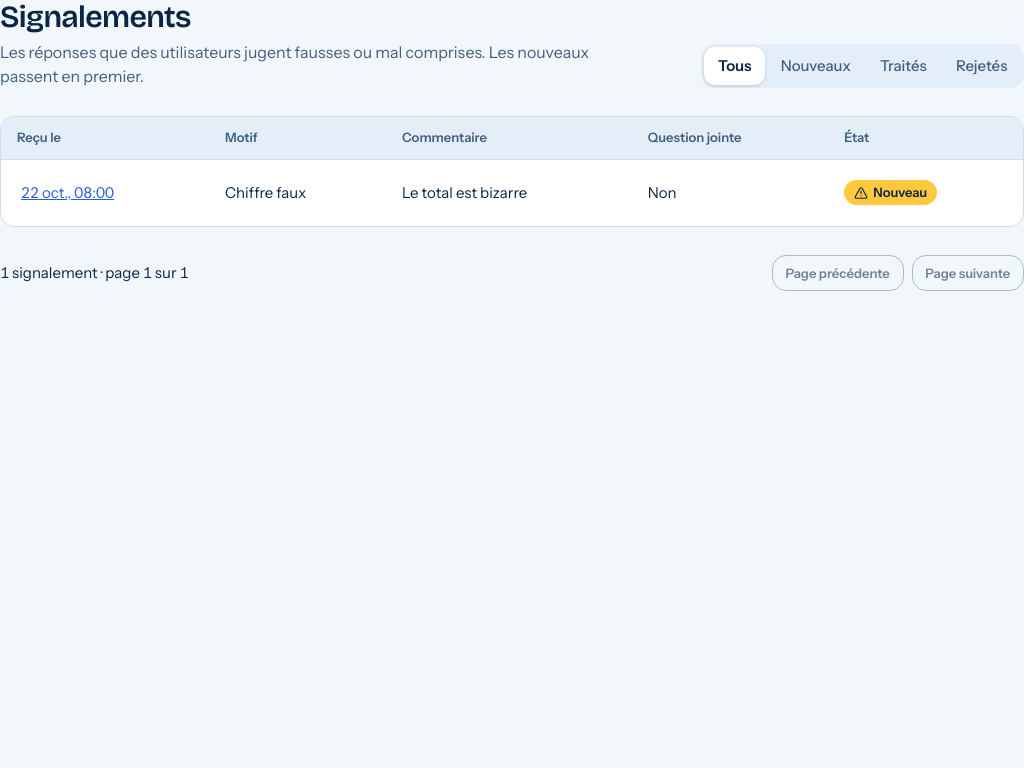
Signalements › une erreur de chargement du détail laisse les actions disponibles
This screenshot has width=1024, height=768.
Click the button with aria-label "Ouvrir le signalement" at coordinates (68, 193), box [17,171,118,215]
(page scrolled)
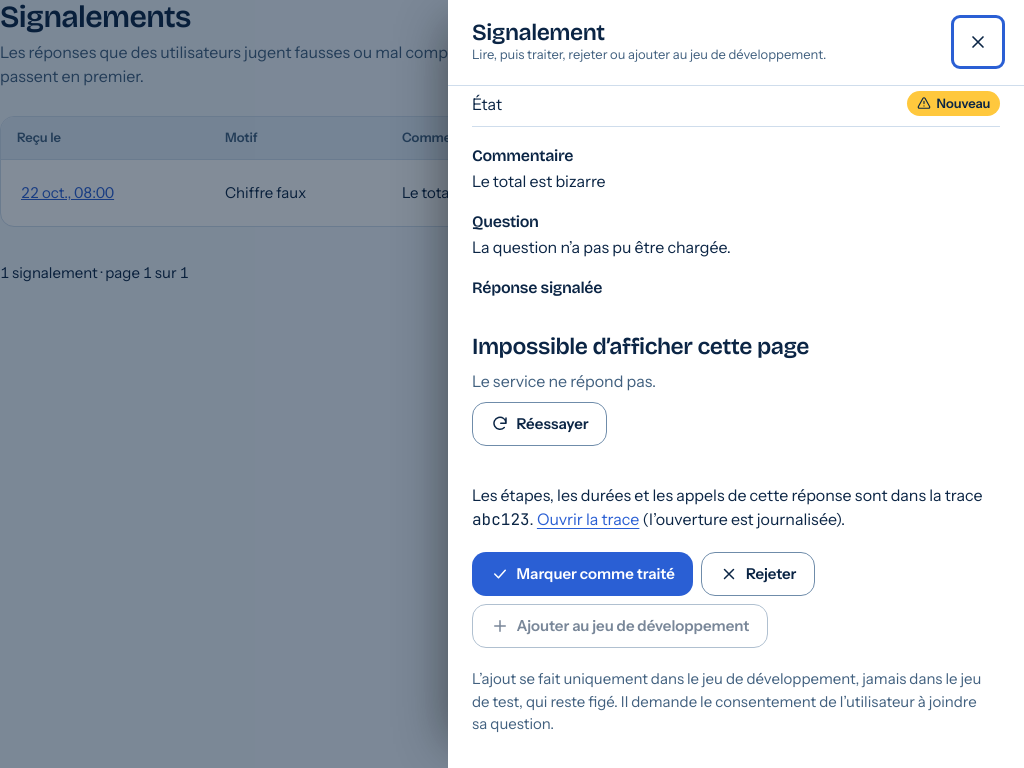
Result: the text "Le service ne répond pas." is shown at [472,369,656,393]
Result: the button "Marquer comme traité" is enabled at [472,552,693,596]
